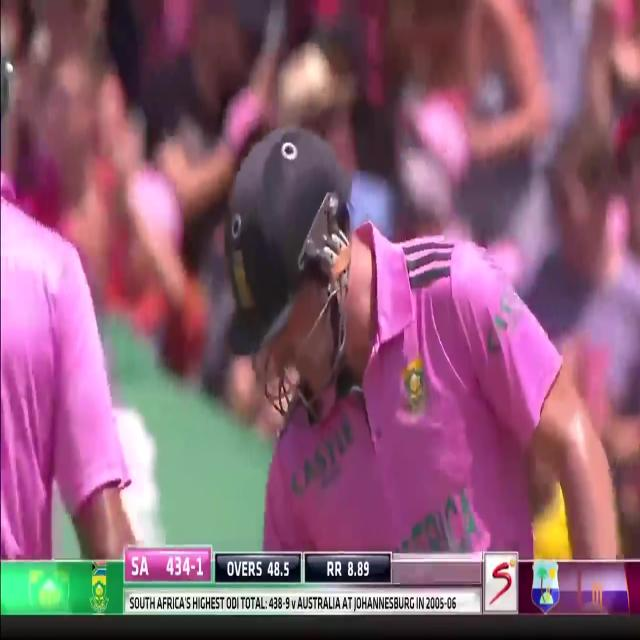Ball: (246, 0, 571, 556), (1, 37, 145, 558)
